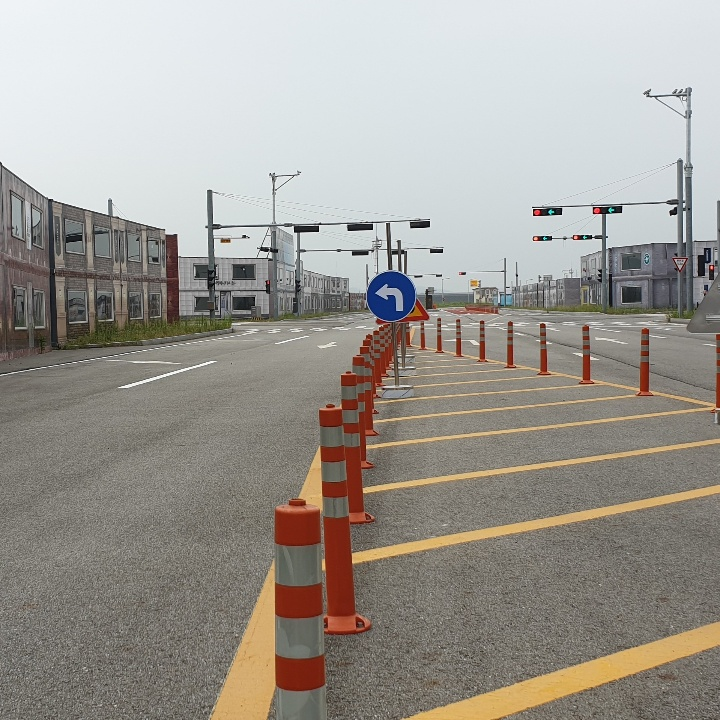left: (373, 280, 406, 317)
